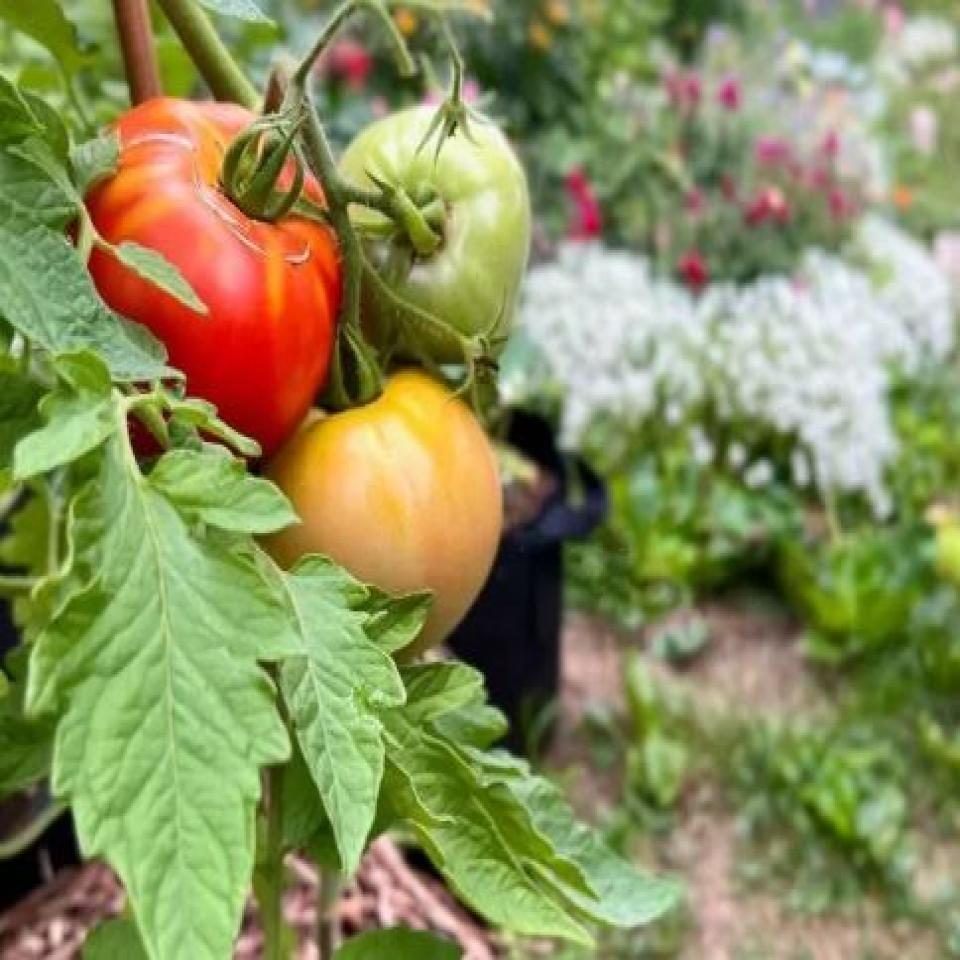Healthy: (73, 98, 346, 384)
